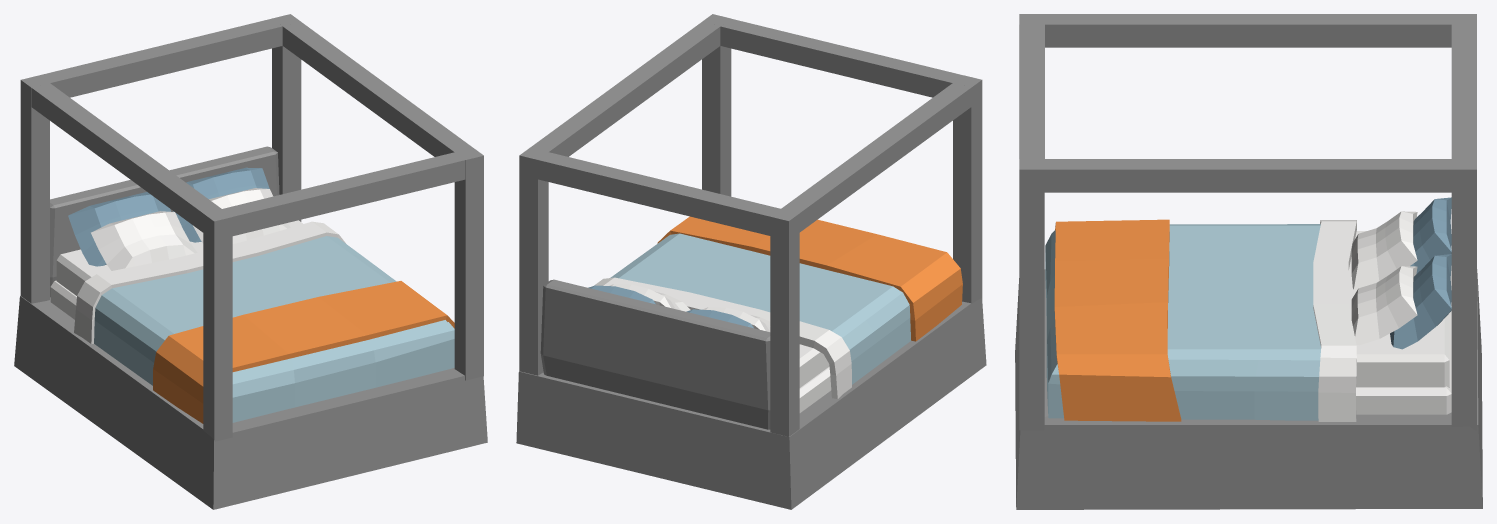
The model's file is Bed_2.fbx.
The picture shows the model from 3 angles, left to right: view 1: azimuth 30°, elevation 25°; view 2: azimuth 150°, elevation 25°; view 3: azimuth 270°, elevation 25°; orthographic projection. The views are drawn at different scales.
Visible parts, largest first — view 1: Bed_2; view 2: Bed_2; view 3: Bed_2.
Boxes of the visible parts, x1,y1,x2,y2 form: Bed_2: (14, 14, 487, 509); Bed_2: (516, 14, 986, 509); Bed_2: (1015, 14, 1482, 509).
Size of the model in its own units: 255 by 316 by 253.
